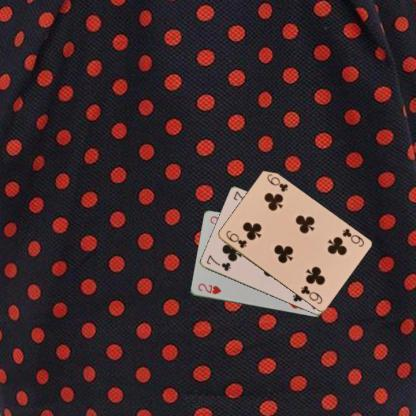2h: (196, 281, 223, 296)
6c: (339, 226, 365, 248), (223, 228, 248, 250)
7c: (203, 253, 232, 272)
